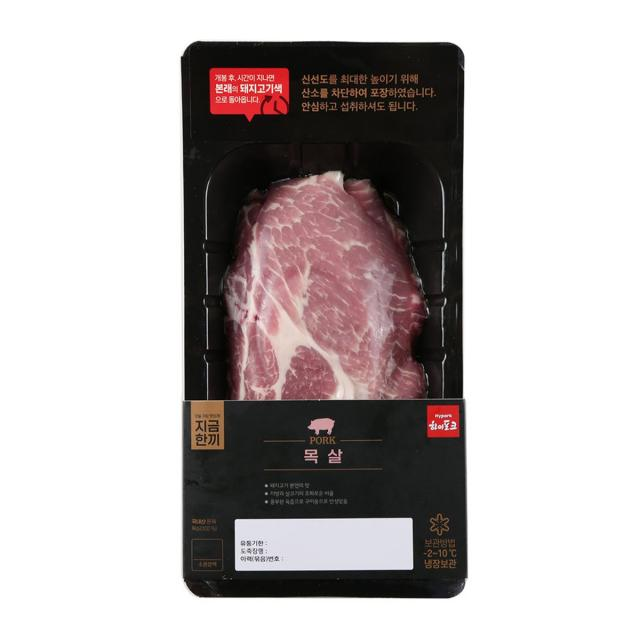pork: (172, 12, 470, 584)
